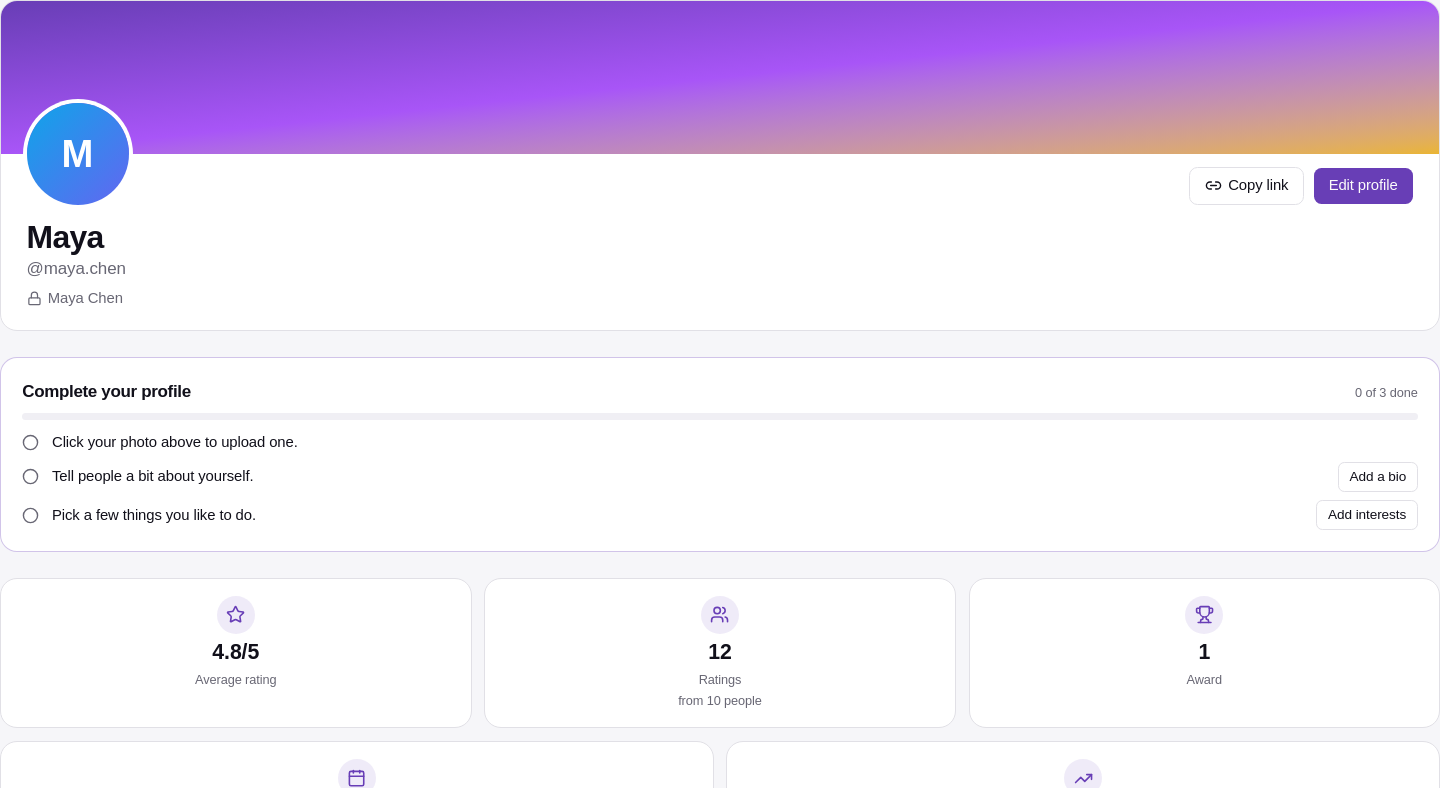
Scenario: ProfilePage › prompts you to finish a sparse profile and opens editing from the prompt
This screenshot has width=1440, height=788.
Expected: the heading "Complete your profile" is shown, [22,379,191,405]
What coordinates should you click on to do the following:
click the button "Add a bio"
I would click on:
 (1378, 477)
Its box is [1338,462,1418,492].
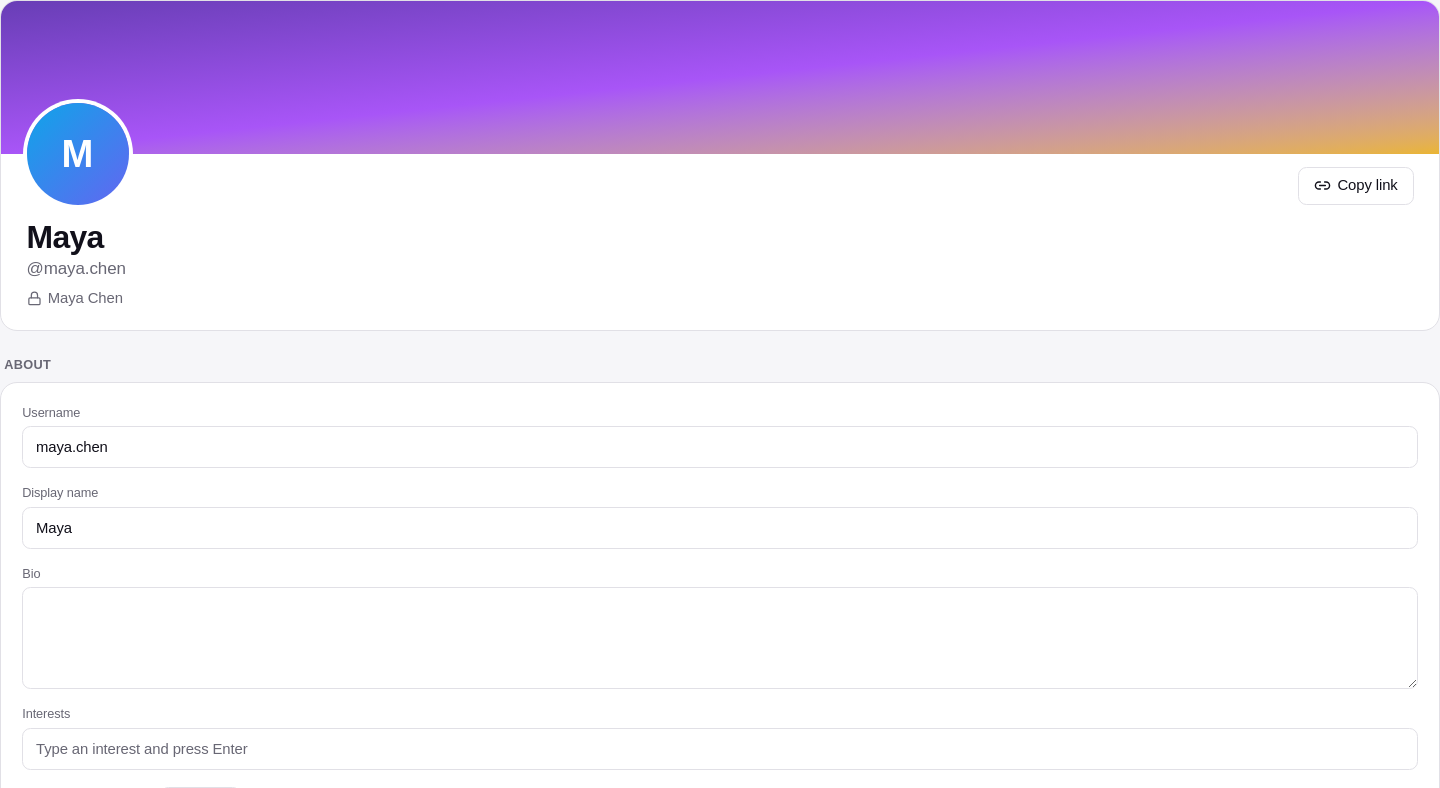
Expected: the text box labelled "Bio" is shown, [22,587,1418,689]
Expected: the heading "Complete your profile" is gone
